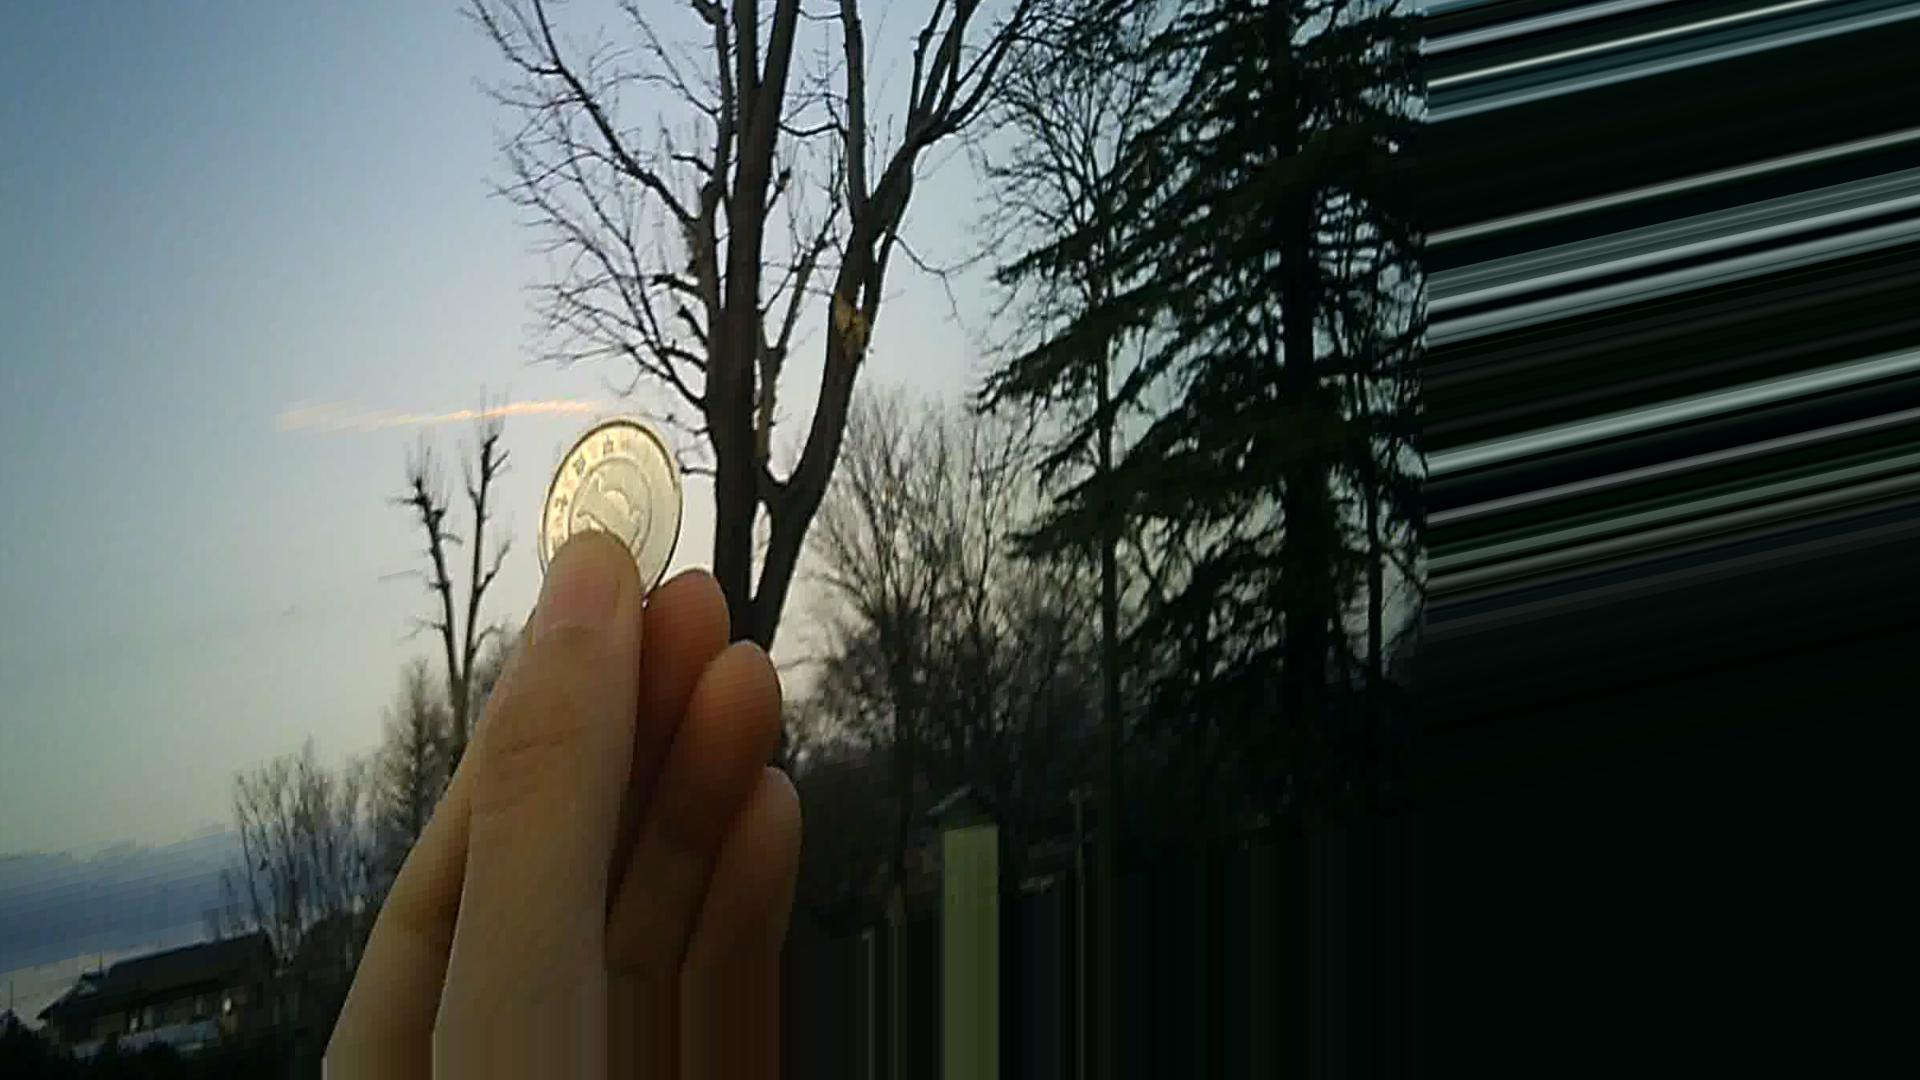1 Yen: (525, 415, 687, 617)
